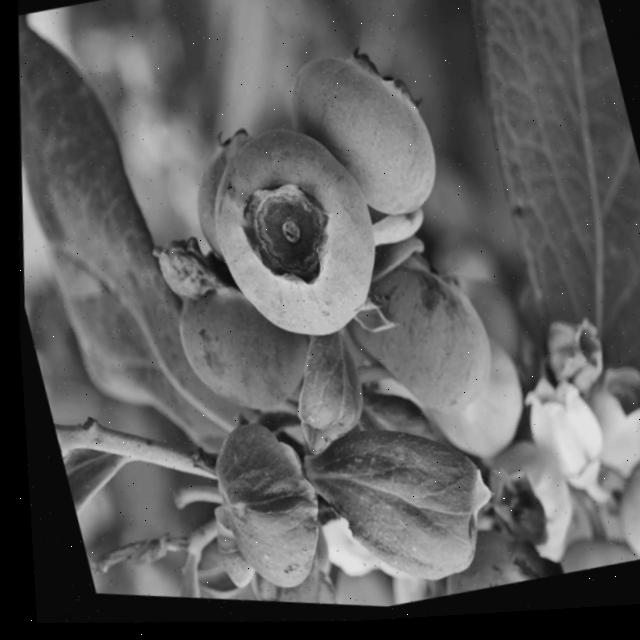RipeBlueBerry: (178, 104, 398, 375), (266, 23, 454, 246), (334, 250, 502, 441), (152, 269, 314, 445)
